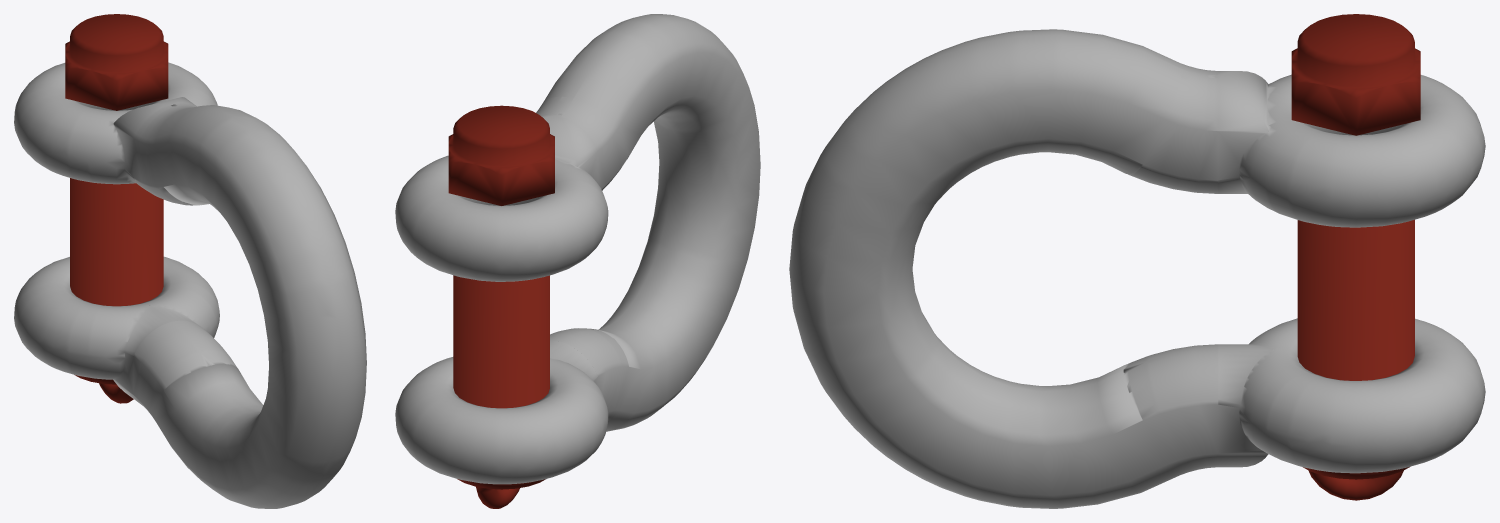
3 renders of one model, left to right at view 1: azimuth 30°, elevation 25°; view 2: azimuth 150°, elevation 25°; view 3: azimuth 270°, elevation 25°, orthographic. The views are drawn at different scales.
Parts seen in each view (by area): view 1: CB-2140_200; view 2: CB-2140_200; view 3: CB-2140_200.
Boxes of the visible parts, x1,y1,x2,y2 form: CB-2140_200: (14,14,366,508); CB-2140_200: (395,14,760,508); CB-2140_200: (789,14,1485,508).
Size of the model in its own units: 0.267 by 0.5321 by 0.718.
